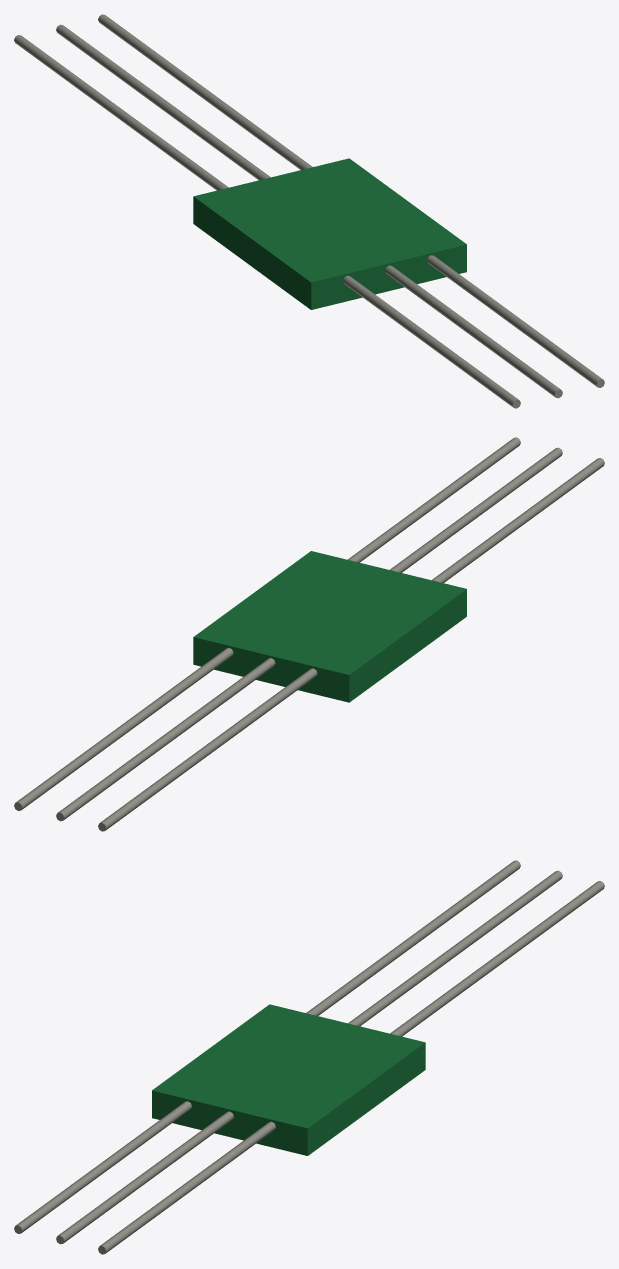
File: bunk500_power.obj
3 views of the same model, one above another, from view 1: azimuth 30°, elevation 25°; view 2: azimuth 150°, elevation 25°; view 3: azimuth 330°, elevation 25° (orthographic).
Parts seen in each view (by area): view 1: bunk500_power; view 2: bunk500_power; view 3: bunk500_power.
Part boxes in pixels (bbox=[...]): bunk500_power: bbox=[14, 14, 604, 408]; bunk500_power: bbox=[14, 437, 604, 831]; bunk500_power: bbox=[14, 860, 604, 1254].
Size of the model in its own units: 2.6 by 0.443 by 14.4.
